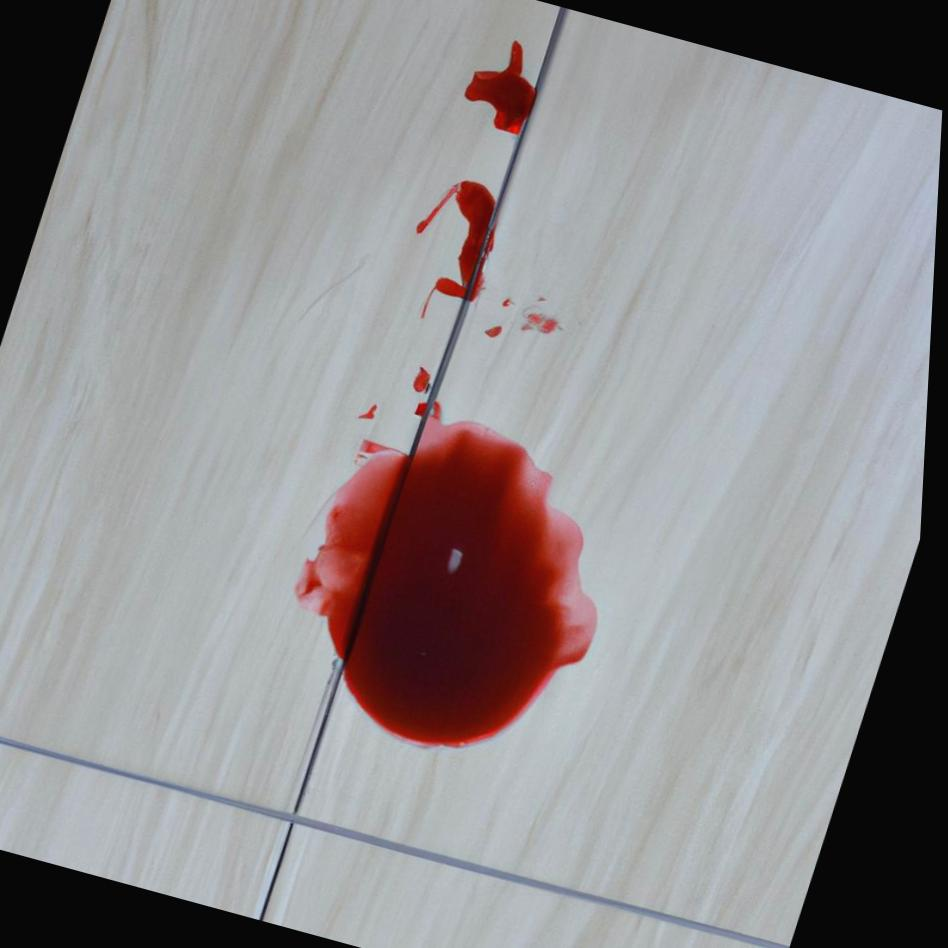Fire: (299, 401, 604, 749), (436, 180, 497, 299), (471, 225, 498, 302)
